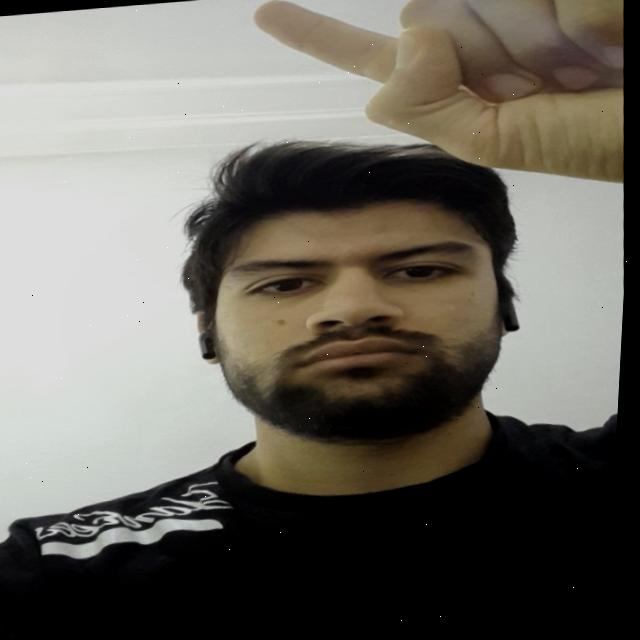Head: (161, 116, 547, 467)
One: (240, 0, 635, 232)
